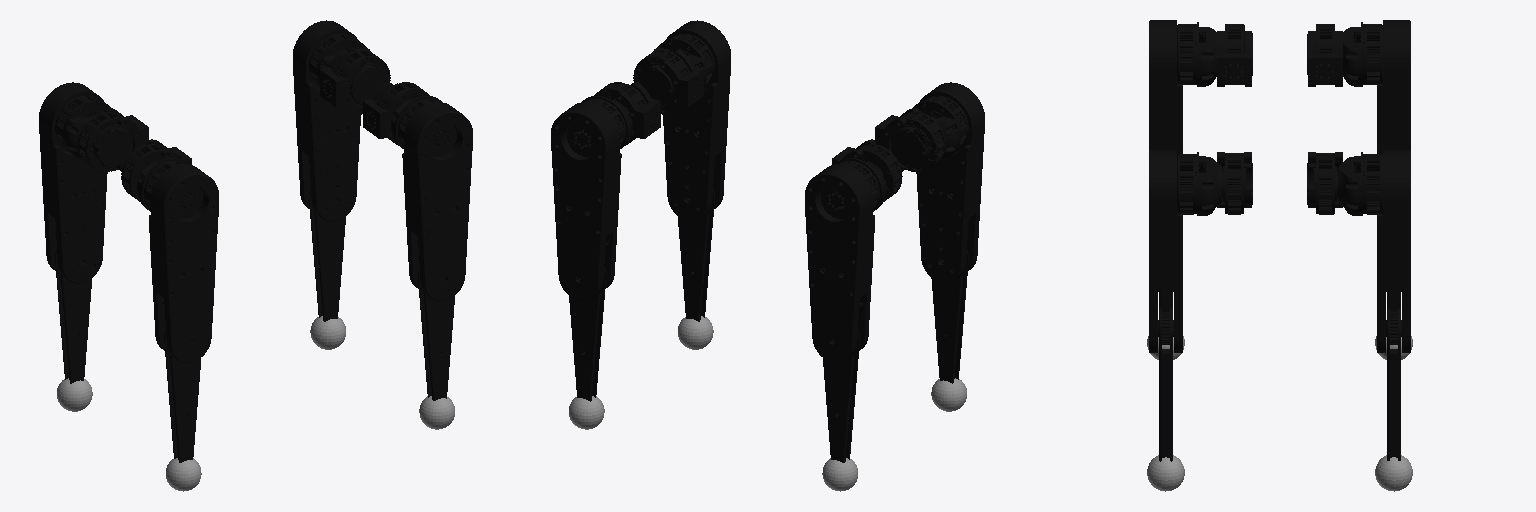
The robot description file, URDF, robot "quattro":
<?xml version="1.0" ?>
<!-- =================================================================================== -->
<!-- |    This document was autogenerated by xacro from src/quattro_description/urdf/quattro.urdf.xacro | -->
<!-- |    EDITING THIS FILE BY HAND IS NOT RECOMMENDED                                 | -->
<!-- =================================================================================== -->
<robot name="quattro">
  <material name="orange">
    <color rgba="1.0 0.5 0.0 1.0"/>
  </material>
  <material name="black">
    <color rgba="0.1 0.1 0.1 1.0"/>
  </material>
  <material name="grey">
    <color rgba="0.6 0.6 0.6 1.0"/>
  </material>
  <!-- Root -->
  <link name="base_link"/>
  <link name="base_inertia">
    <visual>
      <origin rpy="0 0 0" xyz="0 0 0"/>
      <geometry>
        <mesh filename="package://quattro_description/stl/body_frame.stl" scale="1 1 1"/>
      </geometry>
      <material name="orange"/>
    </visual>
    <collision>
      <origin rpy="0 0 0" xyz="0 0 0"/>
      <geometry>
        <box size="0.81 0.24 0.1"/>
      </geometry>
    </collision>
    <inertial>
      <origin rpy="0 0 0" xyz="0.001210 -0.000887 -0.007933"/>
      <mass value="3.092"/>
      <inertia ixx="0.012720949" ixy="0.000098785" ixz="-0.000130401" iyy="0.034500612" iyz="0.000097314" izz="0.043632308"/>
    </inertial>
  </link>
  <joint name="base_base" type="fixed">
    <origin rpy="0 0 0" xyz="0 0 0"/>
    <parent link="base_link"/>
    <child link="base_inertia"/>
  </joint>
  <link name="front_left_hip">
    <visual>
      <origin rpy="0 0 0" xyz="0 0 0"/>
      <geometry>
        <mesh filename="package://quattro_description/stl/hip_1.stl" scale="1 1 1"/>
      </geometry>
      <material name="black"/>
    </visual>
    <collision>
      <origin rpy="0 0 0" xyz="0 0 0"/>
      <geometry>
        <box size="0.05 0.05 0.05"/>
      </geometry>
    </collision>
    <inertial>
      <origin rpy="0 0 0" xyz="-0.003 -0.000913 -0.000423"/>
      <mass value="0.421"/>
      <inertia ixx="0.000208442" ixy="-9.7e-07" ixz="3.59e-06" iyy="0.00034713" iyz="-2.271e-06" izz="0.000242004"/>
    </inertial>
  </link>
  <joint name="motor_front_left_hip" type="revolute">
    <axis xyz="1 0 0"/>
    <origin rpy="0 0 0" xyz="0.2025 0.06 0"/>
    <parent link="base_link"/>
    <child link="front_left_hip"/>
    <limit effort="40.0" lower="-1.04" upper="1.04" velocity="4.0"/>
    <dynamics damping="0.0" friction="0.0"/>
  </joint>
  <link name="front_left_upper_leg">
    <visual>
      <origin rpy="0 0 0" xyz="0 0 0"/>
      <geometry>
        <mesh filename="package://quattro_description/stl/upper_leg_left.stl" scale="1 1 1"/>
      </geometry>
      <material name="black"/>
    </visual>
    <collision>
      <origin rpy="0 0 0" xyz="0 0 -0.105"/>
      <geometry>
        <cylinder length="0.21" radius="0.02"/>
      </geometry>
    </collision>
    <inertial>
      <origin rpy="0 0 0" xyz="0.00011 -0.017289 -0.042003"/>
      <mass value="0.823"/>
      <inertia ixx="0.004380506" ixy="1.19e-06" ixz="-3.916e-06" iyy="0.004394642" iyz="0.000544858" izz="0.000779349"/>
    </inertial>
  </link>
  <joint name="motor_front_left_upper_leg" type="revolute">
    <axis xyz="0 1 0"/>
    <origin rpy="0 0 0" xyz="0 0.0905 0"/>
    <parent link="front_left_hip"/>
    <child link="front_left_upper_leg"/>
    <limit effort="40.0" lower="-1.57079632679" upper="2.59" velocity="4.0"/>
    <dynamics damping="0.0" friction="0.0"/>
  </joint>
  <link name="front_left_lower_leg">
    <visual>
      <origin rpy="0 0 0" xyz="0 0 0"/>
      <geometry>
        <mesh filename="package://quattro_description/stl/lower_leg_left.stl" scale="1 1 1"/>
      </geometry>
      <material name="black"/>
    </visual>
    <collision>
      <origin rpy="0 0 0" xyz="0 0 -0.105"/>
      <geometry>
        <cylinder length="0.21" radius="0.018"/>
      </geometry>
    </collision>
    <inertial>
      <origin rpy="0 0 0" xyz="-0.000176 0.0 -0.034133"/>
      <mass value="0.17"/>
      <inertia ixx="0.000604957" ixy="8e-09" ixz="2.77e-07" iyy="0.000622383" iyz="1.3e-08" izz="2.5776e-05"/>
    </inertial>
  </link>
  <joint name="motor_front_left_lower_leg" type="revolute">
    <axis xyz="0 1 0"/>
    <origin rpy="0 0 0" xyz="0 0 -0.21"/>
    <parent link="front_left_upper_leg"/>
    <child link="front_left_lower_leg"/>
    <limit effort="40.0" lower="-2.9" upper="1.57079632679" velocity="4.0"/>
    <dynamics damping="0.0" friction="0.0"/>
  </joint>
  <link name="front_left_foot">
    <visual>
      <origin rpy="0 0 0" xyz="0 0 0"/>
      <geometry>
        <sphere radius="0.025"/>
      </geometry>
      <material name="grey"/>
    </visual>
    <collision>
      <origin rpy="0 0 0" xyz="0 0 0"/>
      <geometry>
        <sphere radius="0.025"/>
      </geometry>
    </collision>
    <inertial>
      <origin rpy="0 0 0" xyz="0 0 0"/>
      <mass value="0.05"/>
      <inertia ixx="0.00005" ixy="0.0" ixz="0.0" iyy="0.00005" iyz="0.0" izz="0.00005"/>
    </inertial>
  </link>
  <joint name="front_left_leg_foot" type="fixed">
    <origin rpy="0 0 0" xyz="0 0 -0.21"/>
    <parent link="front_left_lower_leg"/>
    <child link="front_left_foot"/>
  </joint>
  <link name="front_right_hip">
    <visual>
      <origin rpy="0 0 0" xyz="0 0 0"/>
      <geometry>
        <mesh filename="package://quattro_description/stl/hip_2.stl" scale="1 1 1"/>
      </geometry>
      <material name="black"/>
    </visual>
    <collision>
      <origin rpy="0 0 0" xyz="0 0 0"/>
      <geometry>
        <box size="0.05 0.05 0.05"/>
      </geometry>
    </collision>
    <inertial>
      <origin rpy="0 0 0" xyz="-0.003304 0.000913 -0.000118"/>
      <mass value="0.421"/>
      <inertia ixx="0.000208731" ixy="1.164e-06" ixz="3.22e-06" iyy="0.000346391" iyz="2.078e-06" izz="0.000240976"/>
    </inertial>
  </link>
  <joint name="motor_front_right_hip" type="revolute">
    <axis xyz="1 0 0"/>
    <origin rpy="0 0 0" xyz="0.2025 -0.06 0"/>
    <parent link="base_link"/>
    <child link="front_right_hip"/>
    <limit effort="40.0" lower="-1.04" upper="1.04" velocity="4.0"/>
    <dynamics damping="0.0" friction="0.0"/>
  </joint>
  <link name="front_right_upper_leg">
    <visual>
      <origin rpy="0 0 0" xyz="0 0 0"/>
      <geometry>
        <mesh filename="package://quattro_description/stl/upper_leg_right.stl" scale="1 1 1"/>
      </geometry>
      <material name="black"/>
    </visual>
    <collision>
      <origin rpy="0 0 0" xyz="0 0 -0.105"/>
      <geometry>
        <cylinder length="0.21" radius="0.02"/>
      </geometry>
    </collision>
    <inertial>
      <origin rpy="0 0 0" xyz="-0.00011 0.017289 -0.042003"/>
      <mass value="0.823"/>
      <inertia ixx="0.004380506" ixy="1.19e-06" ixz="3.916e-06" iyy="0.004394642" iyz="-0.000544858" izz="0.000779349"/>
    </inertial>
  </link>
  <joint name="motor_front_right_upper_leg" type="revolute">
    <axis xyz="0 1 0"/>
    <origin rpy="0 0 0" xyz="0 -0.0905 0"/>
    <parent link="front_right_hip"/>
    <child link="front_right_upper_leg"/>
    <limit effort="40.0" lower="-1.57079632679" upper="2.59" velocity="4.0"/>
    <dynamics damping="0.0" friction="0.0"/>
  </joint>
  <link name="front_right_lower_leg">
    <visual>
      <origin rpy="0 0 0" xyz="0 0 0"/>
      <geometry>
        <mesh filename="package://quattro_description/stl/lower_leg_right.stl" scale="1 1 1"/>
      </geometry>
      <material name="black"/>
    </visual>
    <collision>
      <origin rpy="0 0 0" xyz="0 0 -0.105"/>
      <geometry>
        <cylinder length="0.21" radius="0.018"/>
      </geometry>
    </collision>
    <inertial>
      <origin rpy="0 0 0" xyz="0.000176 0.0 -0.034133"/>
      <mass value="0.17"/>
      <inertia ixx="0.000604957" ixy="8e-09" ixz="-2.77e-07" iyy="0.000622383" iyz="-1.3e-08" izz="2.5776e-05"/>
    </inertial>
  </link>
  <joint name="motor_front_right_lower_leg" type="revolute">
    <axis xyz="0 1 0"/>
    <origin rpy="0 0 0" xyz="0 0 -0.21"/>
    <parent link="front_right_upper_leg"/>
    <child link="front_right_lower_leg"/>
    <limit effort="40.0" lower="-2.9" upper="1.57079632679" velocity="4.0"/>
    <dynamics damping="0.0" friction="0.0"/>
  </joint>
  <link name="front_right_foot">
    <visual>
      <origin rpy="0 0 0" xyz="0 0 0"/>
      <geometry>
        <sphere radius="0.025"/>
      </geometry>
      <material name="grey"/>
    </visual>
    <collision>
      <origin rpy="0 0 0" xyz="0 0 0"/>
      <geometry>
        <sphere radius="0.025"/>
      </geometry>
    </collision>
    <inertial>
      <origin rpy="0 0 0" xyz="0 0 0"/>
      <mass value="0.05"/>
      <inertia ixx="0.00005" ixy="0.0" ixz="0.0" iyy="0.00005" iyz="0.0" izz="0.00005"/>
    </inertial>
  </link>
  <joint name="front_right_leg_foot" type="fixed">
    <origin rpy="0 0 0" xyz="0 0 -0.21"/>
    <parent link="front_right_lower_leg"/>
    <child link="front_right_foot"/>
  </joint>
  <link name="back_left_hip">
    <visual>
      <origin rpy="0 0 0" xyz="0 0 0"/>
      <geometry>
        <mesh filename="package://quattro_description/stl/hip_3.stl" scale="1 1 1"/>
      </geometry>
      <material name="black"/>
    </visual>
    <collision>
      <origin rpy="0 0 0" xyz="0 0 0"/>
      <geometry>
        <box size="0.05 0.05 0.05"/>
      </geometry>
    </collision>
    <inertial>
      <origin rpy="0 0 0" xyz="0.003304 -0.000713 -0.000118"/>
      <mass value="0.421"/>
      <inertia ixx="0.000208731" ixy="1.164e-06" ixz="-3.22e-06" iyy="0.000346392" iyz="-2.078e-06" izz="0.000240976"/>
    </inertial>
  </link>
  <joint name="motor_back_left_hip" type="revolute">
    <axis xyz="1 0 0"/>
    <origin rpy="0 0 0" xyz="-0.2025 0.06 0"/>
    <parent link="base_link"/>
    <child link="back_left_hip"/>
    <limit effort="40.0" lower="-1.04" upper="1.04" velocity="4.0"/>
    <dynamics damping="0.0" friction="0.0"/>
  </joint>
  <link name="back_left_upper_leg">
    <visual>
      <origin rpy="0 0 0" xyz="0 0 0"/>
      <geometry>
        <mesh filename="package://quattro_description/stl/upper_leg_left.stl" scale="1 1 1"/>
      </geometry>
      <material name="black"/>
    </visual>
    <collision>
      <origin rpy="0 0 0" xyz="0 0 -0.105"/>
      <geometry>
        <cylinder length="0.21" radius="0.02"/>
      </geometry>
    </collision>
    <inertial>
      <origin rpy="0 0 0" xyz="0.00011 -0.017289 -0.042003"/>
      <mass value="0.823"/>
      <inertia ixx="0.004380506" ixy="1.19e-06" ixz="-3.916e-06" iyy="0.004394642" iyz="0.000544858" izz="0.000779349"/>
    </inertial>
  </link>
  <joint name="motor_back_left_upper_leg" type="revolute">
    <axis xyz="0 1 0"/>
    <origin rpy="0 0 0" xyz="0 0.0905 0"/>
    <parent link="back_left_hip"/>
    <child link="back_left_upper_leg"/>
    <limit effort="40.0" lower="-1.57079632679" upper="2.59" velocity="4.0"/>
    <dynamics damping="0.0" friction="0.0"/>
  </joint>
  <link name="back_left_lower_leg">
    <visual>
      <origin rpy="0 0 0" xyz="0 0 0"/>
      <geometry>
        <mesh filename="package://quattro_description/stl/lower_leg_left.stl" scale="1 1 1"/>
      </geometry>
      <material name="black"/>
    </visual>
    <collision>
      <origin rpy="0 0 0" xyz="0 0 -0.105"/>
      <geometry>
        <cylinder length="0.21" radius="0.018"/>
      </geometry>
    </collision>
    <inertial>
      <origin rpy="0 0 0" xyz="-0.000176 0.0 -0.034133"/>
      <mass value="0.17"/>
      <inertia ixx="0.000604957" ixy="8e-09" ixz="2.77e-07" iyy="0.000622383" iyz="1.3e-08" izz="2.5776e-05"/>
    </inertial>
  </link>
  <joint name="motor_back_left_lower_leg" type="revolute">
    <axis xyz="0 1 0"/>
    <origin rpy="0 0 0" xyz="0 0 -0.21"/>
    <parent link="back_left_upper_leg"/>
    <child link="back_left_lower_leg"/>
    <limit effort="40.0" lower="-2.9" upper="1.57079632679" velocity="4.0"/>
    <dynamics damping="0.0" friction="0.0"/>
  </joint>
  <link name="back_left_foot">
    <visual>
      <origin rpy="0 0 0" xyz="0 0 0"/>
      <geometry>
        <sphere radius="0.025"/>
      </geometry>
      <material name="grey"/>
    </visual>
    <collision>
      <origin rpy="0 0 0" xyz="0 0 0"/>
      <geometry>
        <sphere radius="0.025"/>
      </geometry>
    </collision>
    <inertial>
      <origin rpy="0 0 0" xyz="0 0 0"/>
      <mass value="0.05"/>
      <inertia ixx="0.00005" ixy="0.0" ixz="0.0" iyy="0.00005" iyz="0.0" izz="0.00005"/>
    </inertial>
  </link>
  <joint name="back_left_leg_foot" type="fixed">
    <origin rpy="0 0 0" xyz="0 0 -0.21"/>
    <parent link="back_left_lower_leg"/>
    <child link="back_left_foot"/>
  </joint>
  <link name="back_right_hip">
    <visual>
      <origin rpy="0 0 0" xyz="0 0 0"/>
      <geometry>
        <mesh filename="package://quattro_description/stl/hip_4.stl" scale="1 1 1"/>
      </geometry>
      <material name="black"/>
    </visual>
    <collision>
      <origin rpy="0 0 0" xyz="0 0 0"/>
      <geometry>
        <box size="0.05 0.05 0.05"/>
      </geometry>
    </collision>
    <inertial>
      <origin rpy="0 0 0" xyz="0.003 0.001113 -0.000423"/>
      <mass value="0.421"/>
      <inertia ixx="0.000208442" ixy="-9.7e-07" ixz="-3.59e-06" iyy="0.00034713" iyz="2.271e-06" izz="0.000242004"/>
    </inertial>
  </link>
  <joint name="motor_back_right_hip" type="revolute">
    <axis xyz="1 0 0"/>
    <origin rpy="0 0 0" xyz="-0.2025 -0.06 0"/>
    <parent link="base_link"/>
    <child link="back_right_hip"/>
    <limit effort="40.0" lower="-1.04" upper="1.04" velocity="4.0"/>
    <dynamics damping="0.0" friction="0.0"/>
  </joint>
  <link name="back_right_upper_leg">
    <visual>
      <origin rpy="0 0 0" xyz="0 0 0"/>
      <geometry>
        <mesh filename="package://quattro_description/stl/upper_leg_right.stl" scale="1 1 1"/>
      </geometry>
      <material name="black"/>
    </visual>
    <collision>
      <origin rpy="0 0 0" xyz="0 0 -0.105"/>
      <geometry>
        <cylinder length="0.21" radius="0.02"/>
      </geometry>
    </collision>
    <inertial>
      <origin rpy="0 0 0" xyz="-0.00011 0.017289 -0.042003"/>
      <mass value="0.823"/>
      <inertia ixx="0.004380506" ixy="1.19e-06" ixz="3.916e-06" iyy="0.004394642" iyz="-0.000544858" izz="0.000779349"/>
    </inertial>
  </link>
  <joint name="motor_back_right_upper_leg" type="revolute">
    <axis xyz="0 1 0"/>
    <origin rpy="0 0 0" xyz="0 -0.0905 0"/>
    <parent link="back_right_hip"/>
    <child link="back_right_upper_leg"/>
    <limit effort="40.0" lower="-1.57079632679" upper="2.59" velocity="4.0"/>
    <dynamics damping="0.0" friction="0.0"/>
  </joint>
  <link name="back_right_lower_leg">
    <visual>
      <origin rpy="0 0 0" xyz="0 0 0"/>
      <geometry>
        <mesh filename="package://quattro_description/stl/lower_leg_right.stl" scale="1 1 1"/>
      </geometry>
      <material name="black"/>
    </visual>
    <collision>
      <origin rpy="0 0 0" xyz="0 0 -0.105"/>
      <geometry>
        <cylinder length="0.21" radius="0.018"/>
      </geometry>
    </collision>
    <inertial>
      <origin rpy="0 0 0" xyz="0.000176 0.0 -0.034133"/>
      <mass value="0.17"/>
      <inertia ixx="0.000604957" ixy="8e-09" ixz="-2.77e-07" iyy="0.000622383" iyz="-1.3e-08" izz="2.5776e-05"/>
    </inertial>
  </link>
  <joint name="motor_back_right_lower_leg" type="revolute">
    <axis xyz="0 1 0"/>
    <origin rpy="0 0 0" xyz="0 0 -0.21"/>
    <parent link="back_right_upper_leg"/>
    <child link="back_right_lower_leg"/>
    <limit effort="40.0" lower="-2.9" upper="1.57079632679" velocity="4.0"/>
    <dynamics damping="0.0" friction="0.0"/>
  </joint>
  <link name="back_right_foot">
    <visual>
      <origin rpy="0 0 0" xyz="0 0 0"/>
      <geometry>
        <sphere radius="0.025"/>
      </geometry>
      <material name="grey"/>
    </visual>
    <collision>
      <origin rpy="0 0 0" xyz="0 0 0"/>
      <geometry>
        <sphere radius="0.025"/>
      </geometry>
    </collision>
    <inertial>
      <origin rpy="0 0 0" xyz="0 0 0"/>
      <mass value="0.05"/>
      <inertia ixx="0.00005" ixy="0.0" ixz="0.0" iyy="0.00005" iyz="0.0" izz="0.00005"/>
    </inertial>
  </link>
  <joint name="back_right_leg_foot" type="fixed">
    <origin rpy="0 0 0" xyz="0 0 -0.21"/>
    <parent link="back_right_lower_leg"/>
    <child link="back_right_foot"/>
  </joint>
</robot>

--- Facts derived from the render (not from the file) ---
The picture shows the robot from 3 angles, left to right: view 1: azimuth 30°, elevation 25°; view 2: azimuth 150°, elevation 25°; view 3: azimuth 270°, elevation 25°; orthographic projection.
Robot: quattro — 18 links, 17 joints (12 revolute, 5 fixed); root link base_link; default pose: every joint at zero.
Links seen in each view (by area): view 1: front_right_upper_leg, back_right_upper_leg, back_left_upper_leg, front_left_upper_leg, back_left_hip, front_left_hip, front_left_lower_leg, back_left_lower_leg, front_right_lower_leg, back_right_lower_leg, front_right_hip, back_right_hip (+4 smaller); view 2: front_left_upper_leg, back_left_upper_leg, back_right_upper_leg, front_right_upper_leg, back_right_hip, front_right_hip, front_left_lower_leg, back_left_lower_leg, back_right_lower_leg, front_right_lower_leg, front_left_hip, back_left_hip (+4 smaller); view 3: front_right_upper_leg, front_left_upper_leg, back_left_upper_leg, back_right_upper_leg, back_right_hip, back_left_hip, front_left_lower_leg, front_right_lower_leg, front_left_hip, front_right_hip, front_left_foot, front_right_foot.
Boxes of the visible links, x1,y1,x2,y2 form: front_right_upper_leg: [391, 96, 472, 300]; back_right_upper_leg: [137, 158, 218, 362]; back_left_upper_leg: [39, 82, 110, 283]; front_left_upper_leg: [293, 20, 370, 221]; back_left_hip: [78, 107, 148, 171]; front_left_hip: [320, 50, 390, 114]; front_left_lower_leg: [309, 188, 345, 321]; back_left_lower_leg: [55, 250, 91, 383]; front_right_lower_leg: [418, 268, 454, 400]; back_right_lower_leg: [164, 330, 200, 462]; front_right_hip: [363, 82, 429, 145]; back_right_hip: [121, 139, 191, 201]; front_left_upper_leg: [551, 96, 632, 300]; back_left_upper_leg: [805, 158, 886, 362]; back_right_upper_leg: [913, 82, 984, 283]; front_right_upper_leg: [653, 20, 730, 221]; back_right_hip: [875, 108, 945, 171]; front_right_hip: [633, 50, 703, 114]; front_left_lower_leg: [569, 267, 605, 401]; back_left_lower_leg: [823, 330, 859, 462]; back_right_lower_leg: [931, 251, 968, 383]; front_right_lower_leg: [678, 188, 714, 321]; front_left_hip: [594, 82, 660, 145]; back_left_hip: [832, 139, 902, 201]; front_right_upper_leg: [1149, 150, 1221, 352]; front_left_upper_leg: [1338, 150, 1410, 352]; back_left_upper_leg: [1343, 20, 1410, 153]; back_right_upper_leg: [1149, 20, 1216, 153]; back_right_hip: [1217, 24, 1252, 86]; back_left_hip: [1307, 24, 1342, 86]; front_left_lower_leg: [1386, 308, 1401, 460]; front_right_lower_leg: [1158, 308, 1173, 461]; front_left_hip: [1307, 152, 1342, 214]; front_right_hip: [1217, 152, 1252, 214]; front_left_foot: [1375, 455, 1412, 491]; front_right_foot: [1147, 455, 1184, 491].
Size in the robot's own frame: 0.4948 by 0.351 by 0.4899 metres.
12 mesh visuals loaded from 9 distinct referenced files (8 binary STL); not drawn: 1 (reference not matched to a file when rendering).
